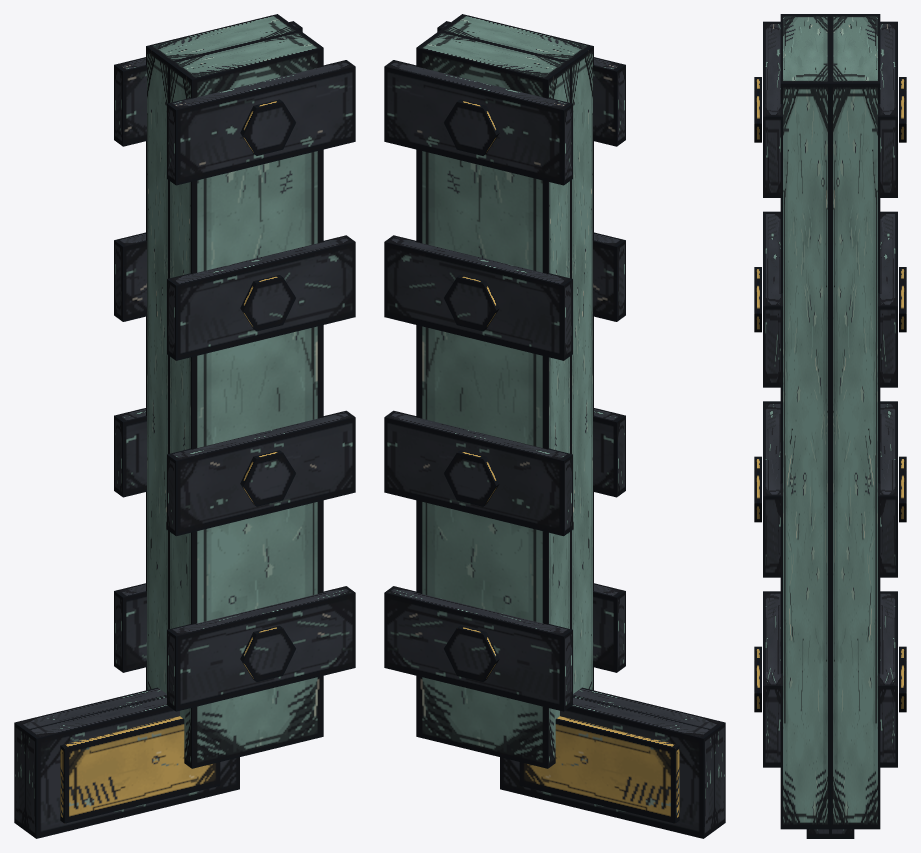
File: accessory_reinforced_heavy_spine.glb
3 renders of one model, left to right at view 1: azimuth 30°, elevation 25°; view 2: azimuth 150°, elevation 25°; view 3: azimuth 270°, elevation 25°, orthographic. The views are drawn at different scales.
Parts seen in each view (by area): view 1: FACE_FRONT, FACE_BACK; view 2: FACE_BACK, FACE_FRONT; view 3: FACE_FRONT, FACE_BACK.
Boxes of the visible parts, x1,y1,x2,y2 form: FACE_FRONT: [25, 31, 355, 838]; FACE_BACK: [14, 14, 302, 830]; FACE_BACK: [384, 31, 714, 838]; FACE_FRONT: [437, 14, 725, 830]; FACE_FRONT: [754, 14, 831, 838]; FACE_BACK: [830, 14, 906, 838].
Bounding box in the file's own units: 0.25 × 0.585 × 0.1017.
1 material, 1 textured.
